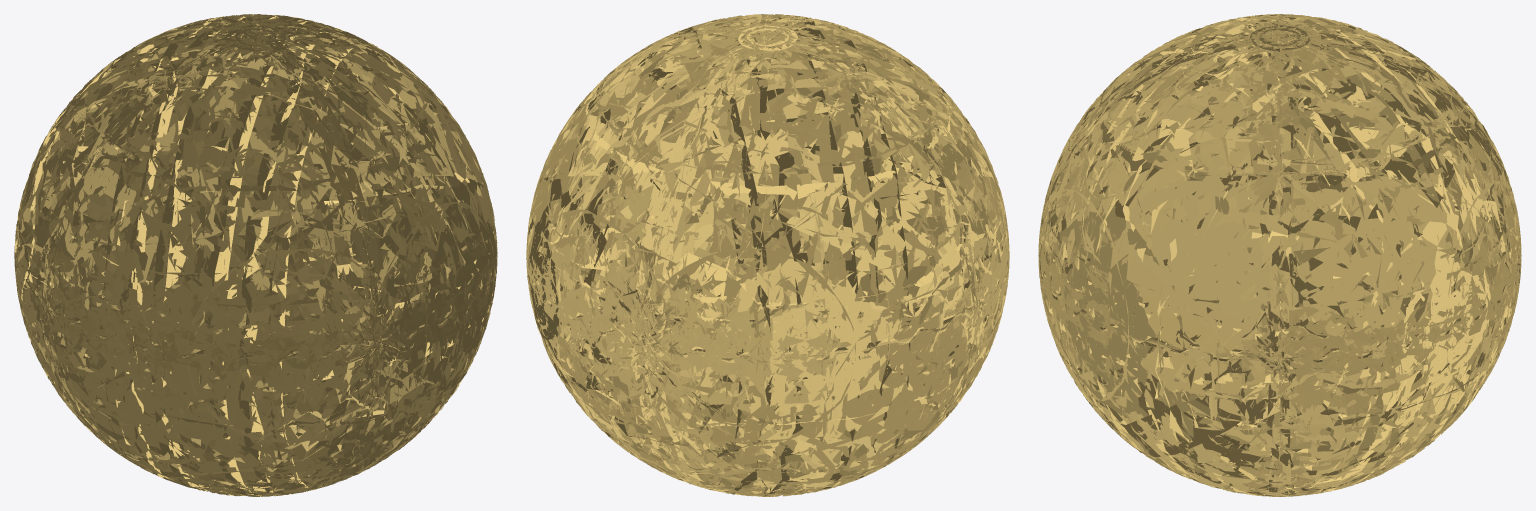
File: electrical.glb
3 renders of one model, left to right at view 1: azimuth 30°, elevation 25°; view 2: azimuth 150°, elevation 25°; view 3: azimuth 270°, elevation 25°, orthographic.
Parts seen in each view (by area): view 1: electrical; view 2: electrical; view 3: electrical.
Boxes of the visible parts, x1,y1,x2,y2 form: electrical: (14,14,497,496); electrical: (526,14,1009,496); electrical: (1038,14,1521,496).
Size of the model in its own units: 2 by 2 by 2.
